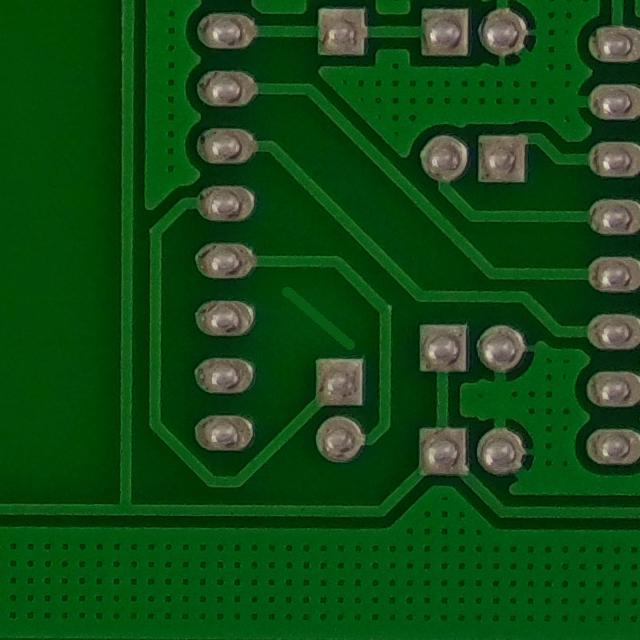spurious_copper: (269, 275, 372, 366)
